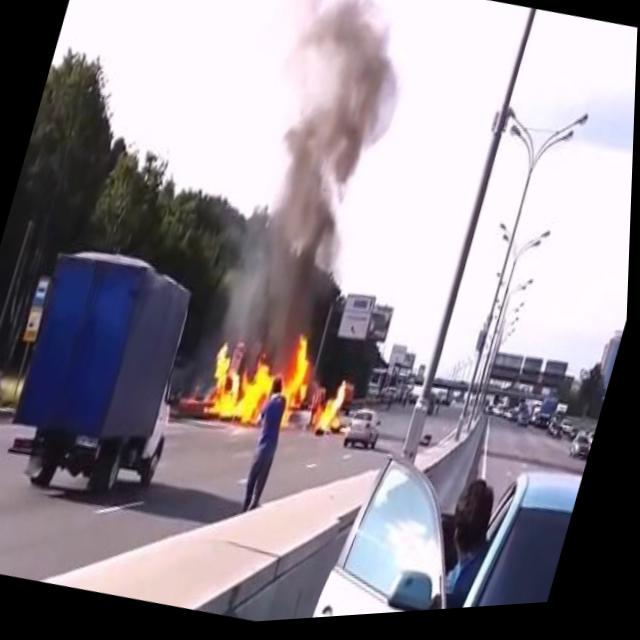fire: (197, 313, 328, 446), (314, 375, 357, 445)
